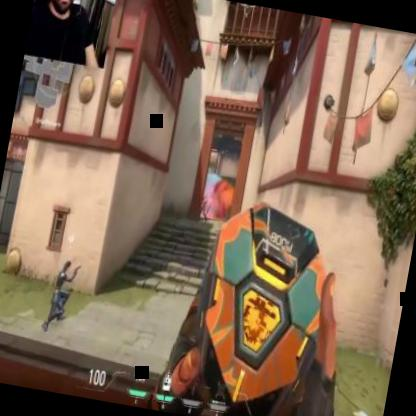enemy: (197, 194, 210, 222)
enemy_head: (203, 194, 207, 198)
